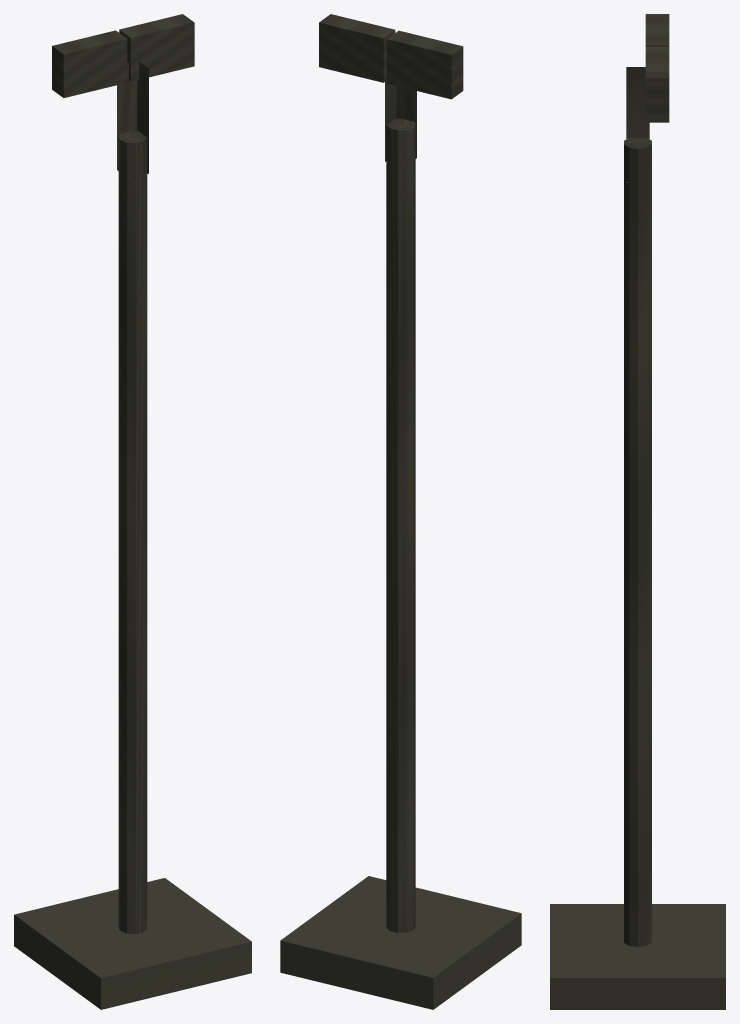
File: prop_searchlight_battery_a.glb
The picture shows the model from 3 angles, left to right: view 1: azimuth 30°, elevation 25°; view 2: azimuth 150°, elevation 25°; view 3: azimuth 270°, elevation 25°; orthographic projection.
Parts seen in each view (by area): view 1: prop_searchlight_battery_a; view 2: prop_searchlight_battery_a; view 3: prop_searchlight_battery_a.
Boxes of the visible parts, <box> form: prop_searchlight_battery_a: <box>14,14,251,1009</box>; prop_searchlight_battery_a: <box>280,14,521,1009</box>; prop_searchlight_battery_a: <box>550,14,725,1009</box>.
Size of the model in its own units: 0.9 by 5.23 by 0.9.
Materials: 1 (1 with a texture image).
